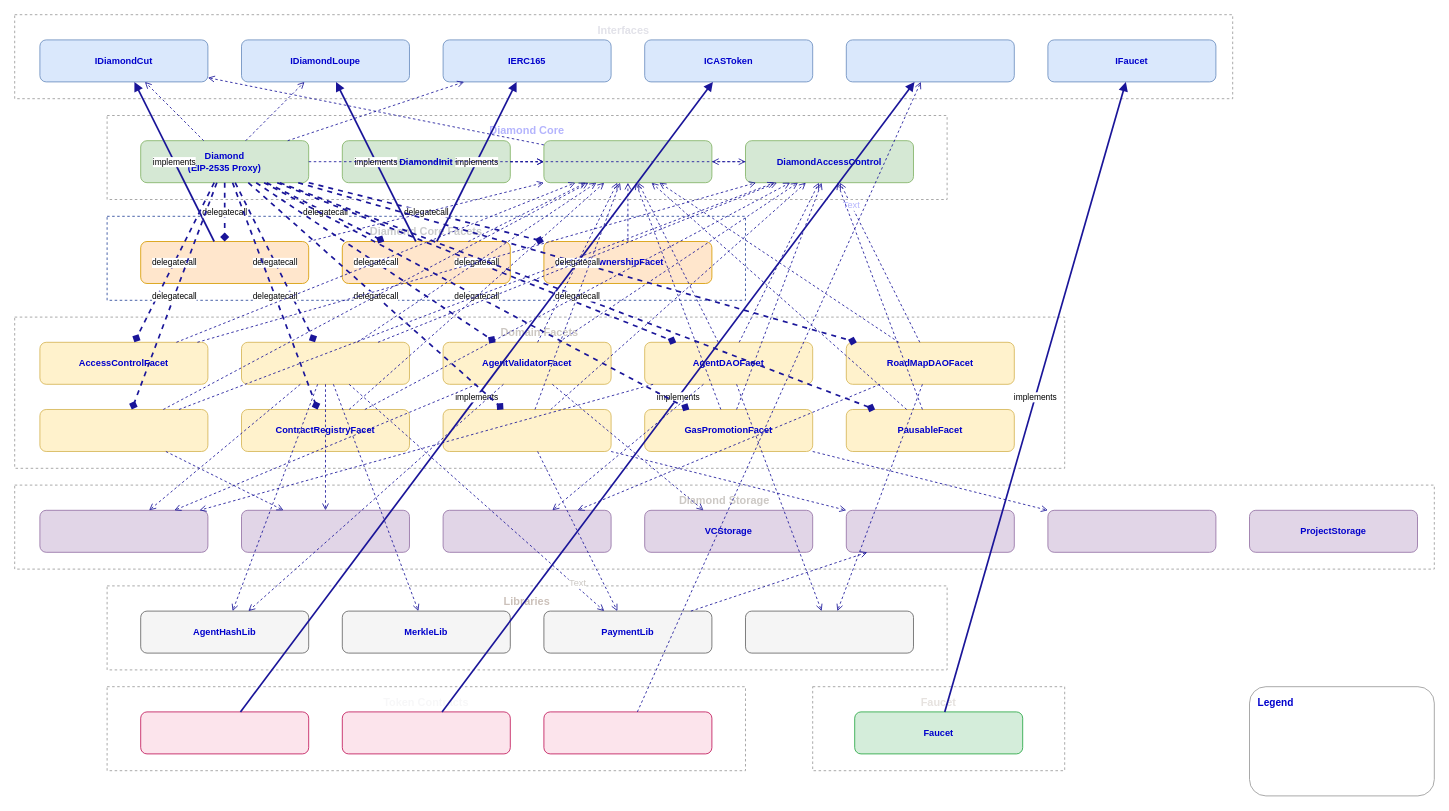
This 1449x811 diagram has some shape labels left out. The shapes that lost their labels are listed below. From the top down, each one's centre as x and y in pixels, then its label:
the point at 929,60: IInfrastructureFund
the point at 627,161: LibDiamond
the point at 224,262: DiamondCutFacet
the point at 425,262: DiamondLoupeFacet
the point at 325,362: AgentRegistryFacet
the point at 123,430: UserRegistryFacet
the point at 526,430: PaymentFacet
the point at 123,530: AgentStorage
the point at 325,530: UserStorage
the point at 526,530: DAOStorage
the point at 929,530: PaymentStorage
the point at 1131,530: GasPromotionStorage
the point at 829,631: VotingLib
the point at 224,732: CASToken (UUPS Upgradeable)
the point at 425,732: InfrastructureFund (UUPS Upgradeable)
the point at 627,732: FundTrackerToken (ERC-20 Adapter)
